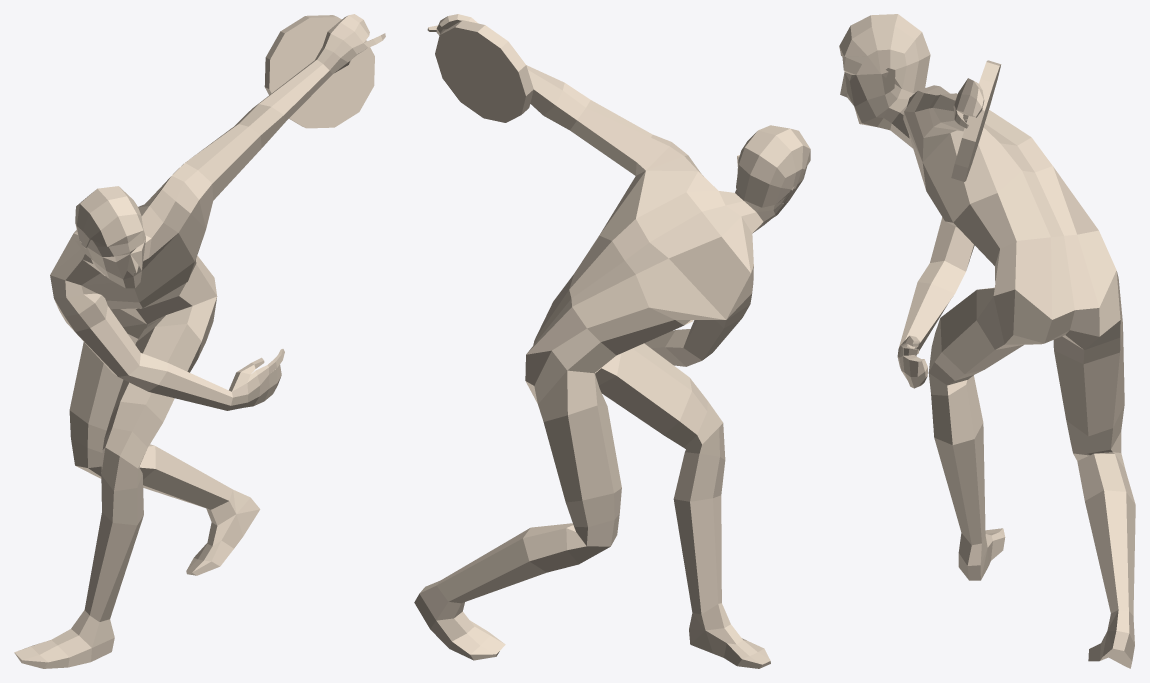
Rendered from Discobolo.fbx.
3 renders of one model, left to right at view 1: azimuth 30°, elevation 25°; view 2: azimuth 150°, elevation 25°; view 3: azimuth 270°, elevation 25°, orthographic. The views are drawn at different scales.
Parts seen in each view (by area): view 1: Discobolo; view 2: Discobolo; view 3: Discobolo.
Part boxes in pixels (x1=…): Discobolo: x1=14, y1=14, x2=385, y2=668; Discobolo: x1=414, y1=14, x2=810, y2=668; Discobolo: x1=839, y1=14, x2=1135, y2=668.
Bounding box in the file's own units: 400 × 627 × 267.
